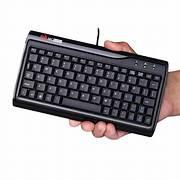keyboard: (12, 29, 168, 137)
